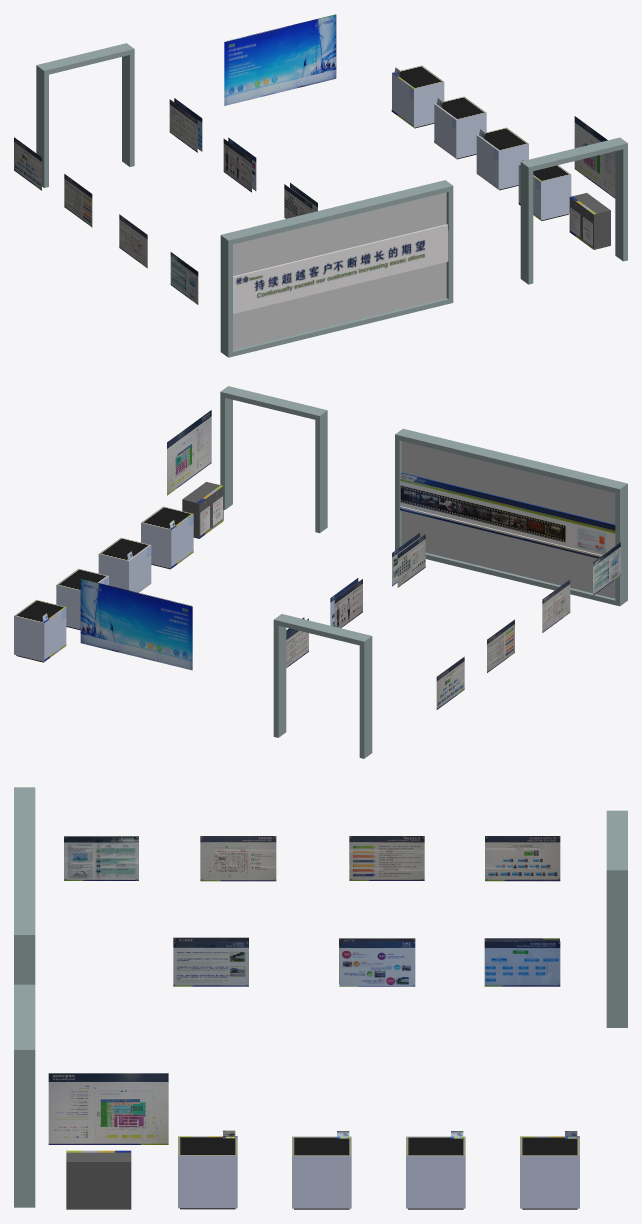
File: ZhanLanTing.FBX
3 views of the same model, one above another, from view 1: azimuth 30°, elevation 25°; view 2: azimuth 150°, elevation 25°; view 3: azimuth 270°, elevation 25° (orthographic). The views are drawn at different scales.
Parts seen in each view (by area): view 1: YF_Model_ZhanLanShi_MenChuang, YF_Model_ZhanLanShi_BoLi, YF_Model_zhanlanshi_BP, YF_Model_ZhanLanShi_Pian_15, YF_Model_ZhanLanShi_TaiZI, YF_Model_ZhanLanShi_TaiZI_02, YF_Model_ZhanLanShi_TaiZI001, YF_Model_ZhanLanShi_TaiZI_01, YF_Model_ZhanLanShi_GunZi, YF_Model_ZhanLanShi_Pian, YF_Model_ZhanLanShi_Pian_08, YF_Model_ZhanLanShi_Pian_07 (+5 smaller); view 2: YF_Model_ZhanLanShi_MenChuang, YF_Model_ZhanLanShi_BoLi, YF_Model_zhanlanshi_BP, YF_Model_ZhanLanShi_Pian_15, YF_Model_ZhanLanShi_TaiZI_02, YF_Model_ZhanLanShi_TaiZI_01, YF_Model_ZhanLanShi_Pian, YF_Model_ZhanLanShi_TaiZI001, YF_Model_ZhanLanShi_GunZi, YF_Model_ZhanLanShi_TaiZI, YF_Model_ZhanLanShi_Pian_08, YF_Model_ZhanLanShi_Pian_04 (+6 smaller); view 3: YF_Model_ZhanLanShi_MenChuang, YF_Model_ZhanLanShi_Pian, YF_Model_ZhanLanShi_TaiZI_01, YF_Model_ZhanLanShi_TaiZI, YF_Model_ZhanLanShi_TaiZI_02, YF_Model_ZhanLanShi_TaiZI001, YF_Model_ZhanLanShi_GunZi, YF_Model_ZhanLanShi_Pian_13, YF_Model_ZhanLanShi_Pian_12, YF_Model_ZhanLanShi_Pian_08, YF_Model_ZhanLanShi_Pian_11, YF_Model_ZhanLanShi_Pian_06 (+2 smaller).
Part boxes in pixels (x1,y1,x2,y2): YF_Model_ZhanLanShi_MenChuang: (36, 43, 627, 357); YF_Model_ZhanLanShi_BoLi: (233, 192, 446, 349); YF_Model_zhanlanshi_BP: (233, 224, 448, 313); YF_Model_ZhanLanShi_Pian_15: (224, 14, 336, 105); YF_Model_ZhanLanShi_TaiZI: (434, 96, 486, 159); YF_Model_ZhanLanShi_TaiZI_02: (391, 65, 444, 128); YF_Model_ZhanLanShi_TaiZI001: (476, 127, 528, 190); YF_Model_ZhanLanShi_TaiZI_01: (518, 160, 571, 220); YF_Model_ZhanLanShi_GunZi: (569, 193, 610, 249); YF_Model_ZhanLanShi_Pian: (574, 116, 615, 198); YF_Model_ZhanLanShi_Pian_08: (119, 214, 147, 268); YF_Model_ZhanLanShi_Pian_07: (223, 138, 251, 192); YF_Model_ZhanLanShi_MenChuang: (220, 386, 627, 758); YF_Model_ZhanLanShi_BoLi: (401, 441, 615, 598); YF_Model_zhanlanshi_BP: (400, 472, 615, 558); YF_Model_ZhanLanShi_Pian_15: (80, 579, 192, 670); YF_Model_ZhanLanShi_TaiZI_02: (14, 599, 66, 662); YF_Model_ZhanLanShi_TaiZI_01: (141, 506, 193, 569); YF_Model_ZhanLanShi_Pian: (167, 410, 211, 495); YF_Model_ZhanLanShi_TaiZI001: (98, 537, 151, 592); YF_Model_ZhanLanShi_GunZi: (182, 482, 223, 538); YF_Model_ZhanLanShi_TaiZI: (56, 568, 108, 630); YF_Model_ZhanLanShi_Pian_08: (542, 579, 570, 632); YF_Model_ZhanLanShi_Pian_04: (397, 534, 425, 587); YF_Model_ZhanLanShi_MenChuang: (14, 787, 627, 1207); YF_Model_ZhanLanShi_Pian: (48, 1073, 168, 1144); YF_Model_ZhanLanShi_TaiZI_01: (178, 1130, 237, 1209); YF_Model_ZhanLanShi_TaiZI: (406, 1131, 465, 1209); YF_Model_ZhanLanShi_TaiZI_02: (520, 1131, 579, 1209); YF_Model_ZhanLanShi_TaiZI001: (292, 1131, 351, 1209); YF_Model_ZhanLanShi_GunZi: (66, 1150, 131, 1209); YF_Model_ZhanLanShi_Pian_13: (484, 941, 560, 986); YF_Model_ZhanLanShi_Pian_12: (339, 941, 415, 986); YF_Model_ZhanLanShi_Pian_08: (200, 836, 276, 881); YF_Model_ZhanLanShi_Pian_11: (173, 941, 248, 986); YF_Model_ZhanLanShi_Pian_06: (485, 836, 560, 881).
Bounding box in the file's own units: 928 × 251 × 882.
